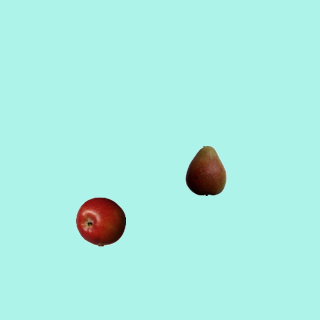Apple Braeburn: (75, 196, 125, 246)
Pear Forelle: (180, 145, 230, 195)
